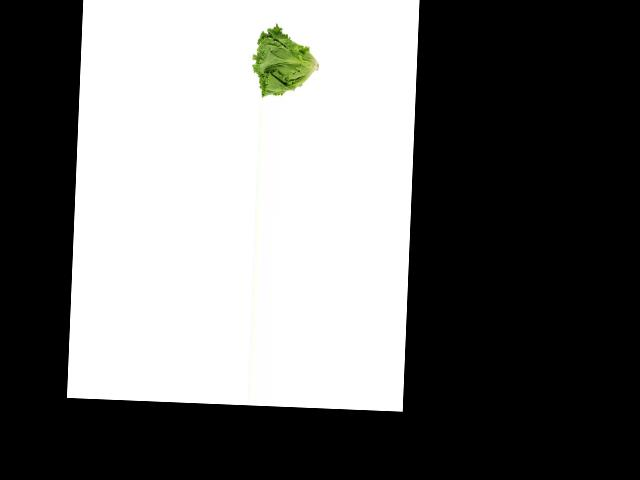lettuce: (248, 26, 322, 100)
